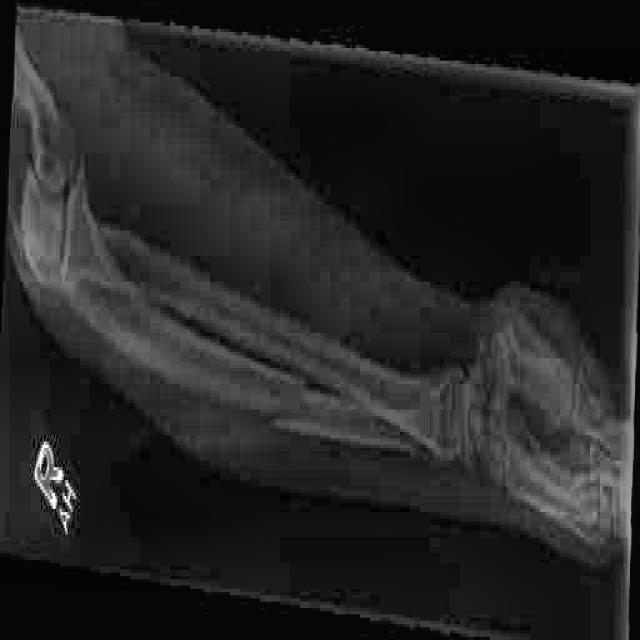forearm fracture: (252, 343, 340, 469)
